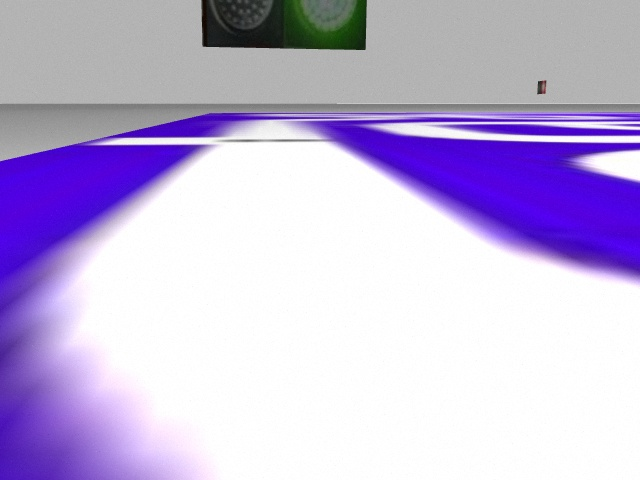green: (285, 2, 369, 48)
